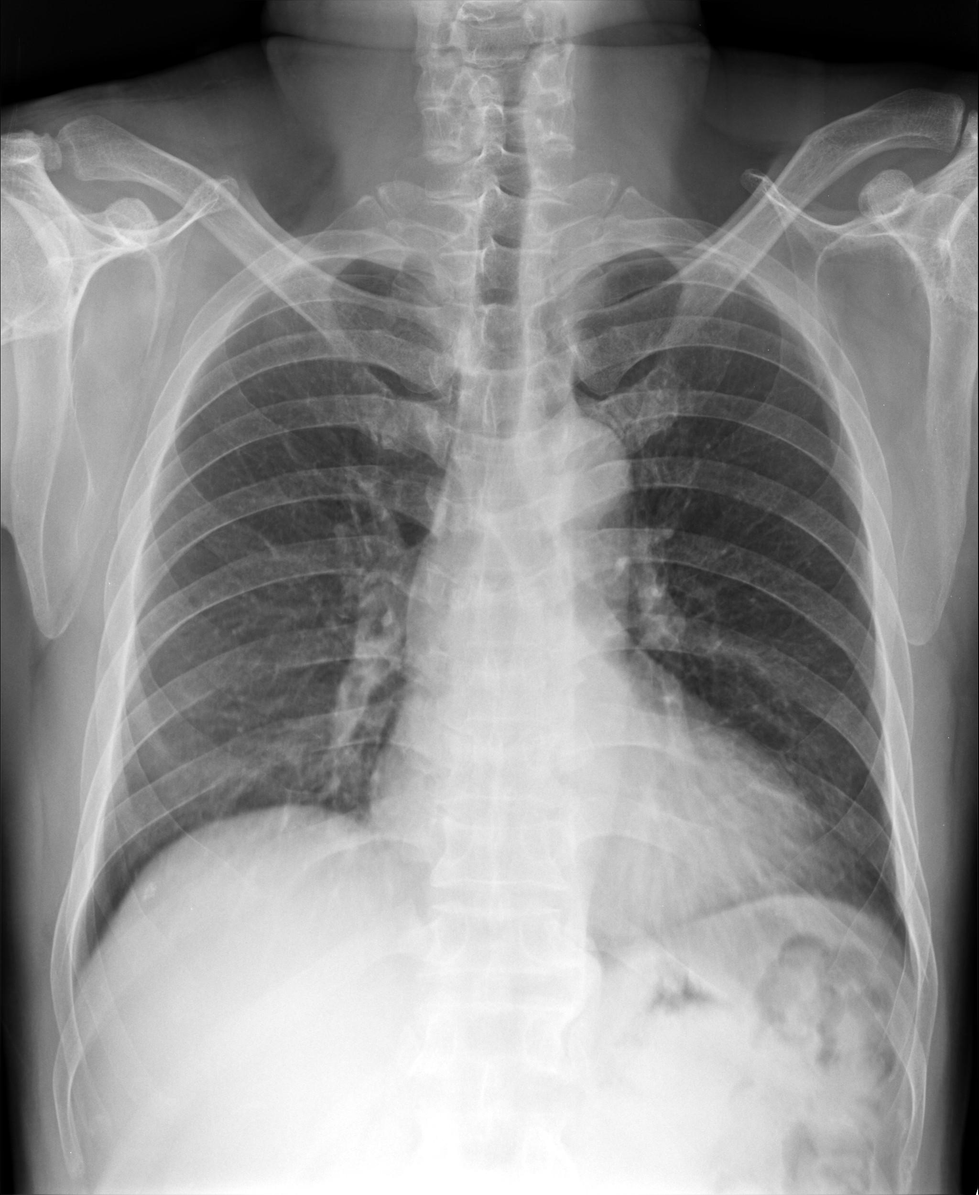Pleural thickening: (677, 237, 772, 291)
